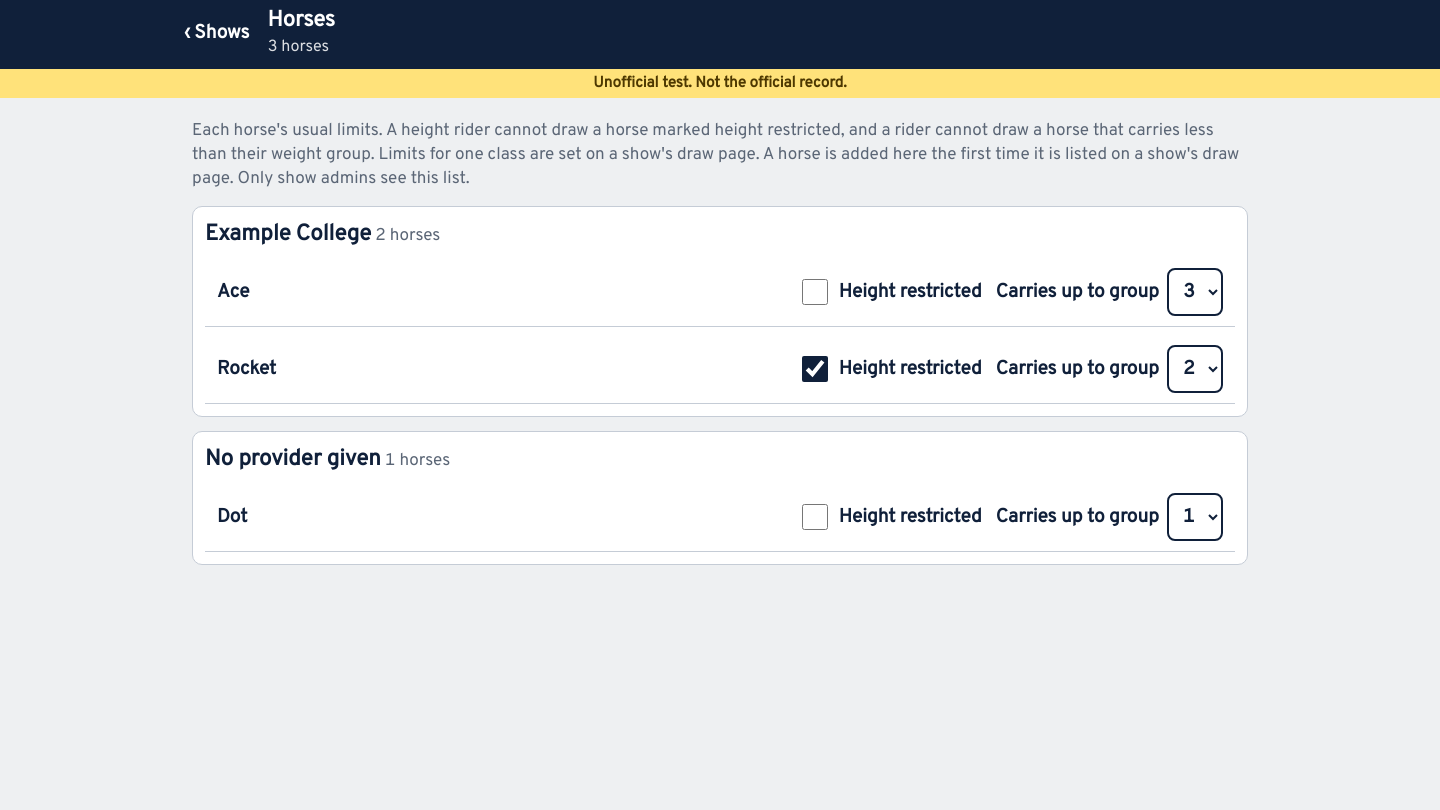
Test: the horses page › lists every horse by provider and saves a change
Expected: the element "No provider given" is shown, left=192, top=431, right=1248, bottom=565
Select "3" in the dropdown named "Heaviest weight group Rocket carries" at [1195, 369], box left=1167, top=345, right=1223, bottom=393
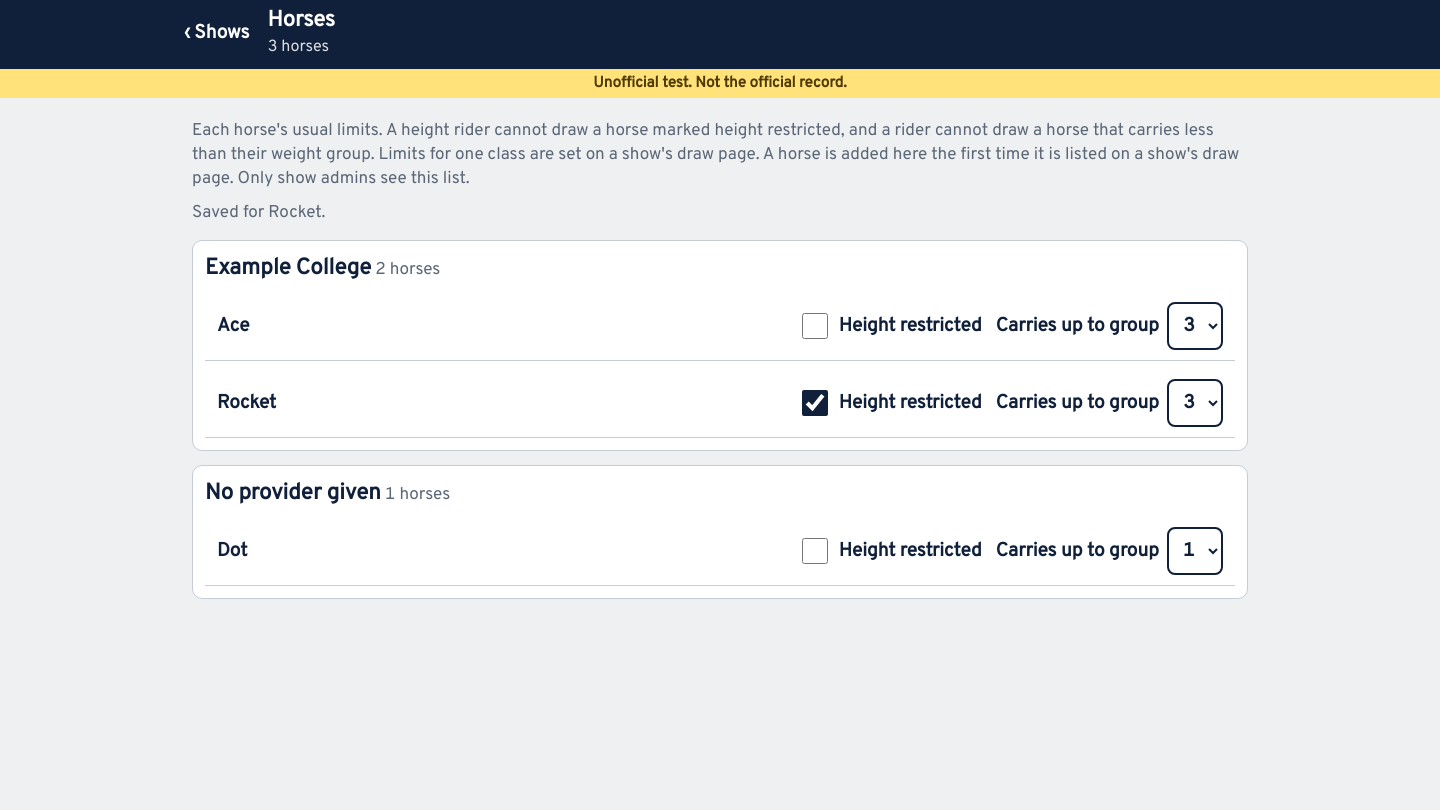
Expected: the text "Saved for Rocket." is shown, left=192, top=202, right=325, bottom=224
